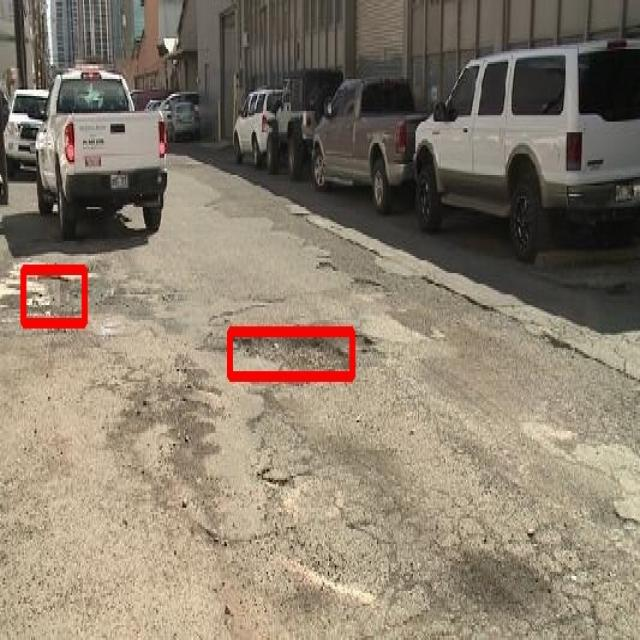Pothole: (254, 455, 298, 506)
